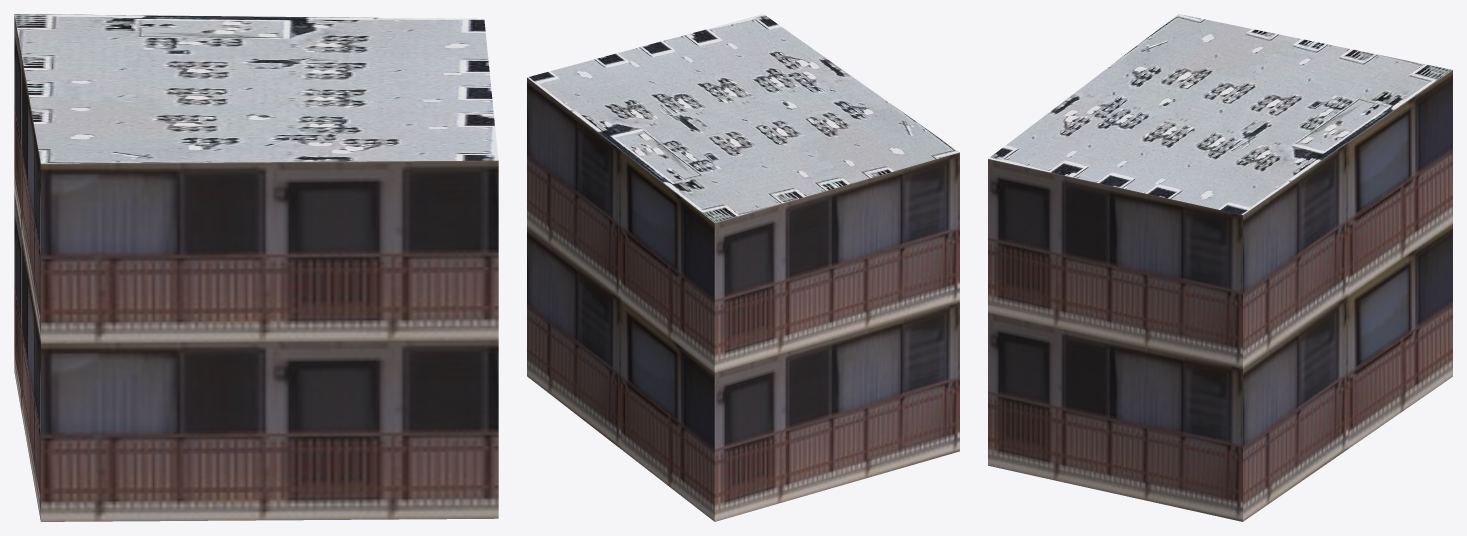
File: ResTex__4008.fbx
The picture shows the model from 3 angles, left to right: view 1: azimuth 30°, elevation 25°; view 2: azimuth 150°, elevation 25°; view 3: azimuth 270°, elevation 25°; orthographic projection. The views are drawn at different scales.
Parts seen in each view (by area): view 1: CityEngineMaterial_6_m, CityEngineMaterial_m; view 2: CityEngineMaterial_6_m, CityEngineMaterial_m; view 3: CityEngineMaterial_6_m, CityEngineMaterial_m.
Part boxes in pixels (<box>): CityEngineMaterial_6_m: <box>14,14,498,521</box>; CityEngineMaterial_m: <box>14,14,498,163</box>; CityEngineMaterial_6_m: <box>527,77,959,521</box>; CityEngineMaterial_m: <box>527,14,959,222</box>; CityEngineMaterial_6_m: <box>988,70,1452,521</box>; CityEngineMaterial_m: <box>988,14,1452,214</box>.
Bounding box in the file's own units: 8.43 × 6 × 8.23.
2 materials, 2 textured.
